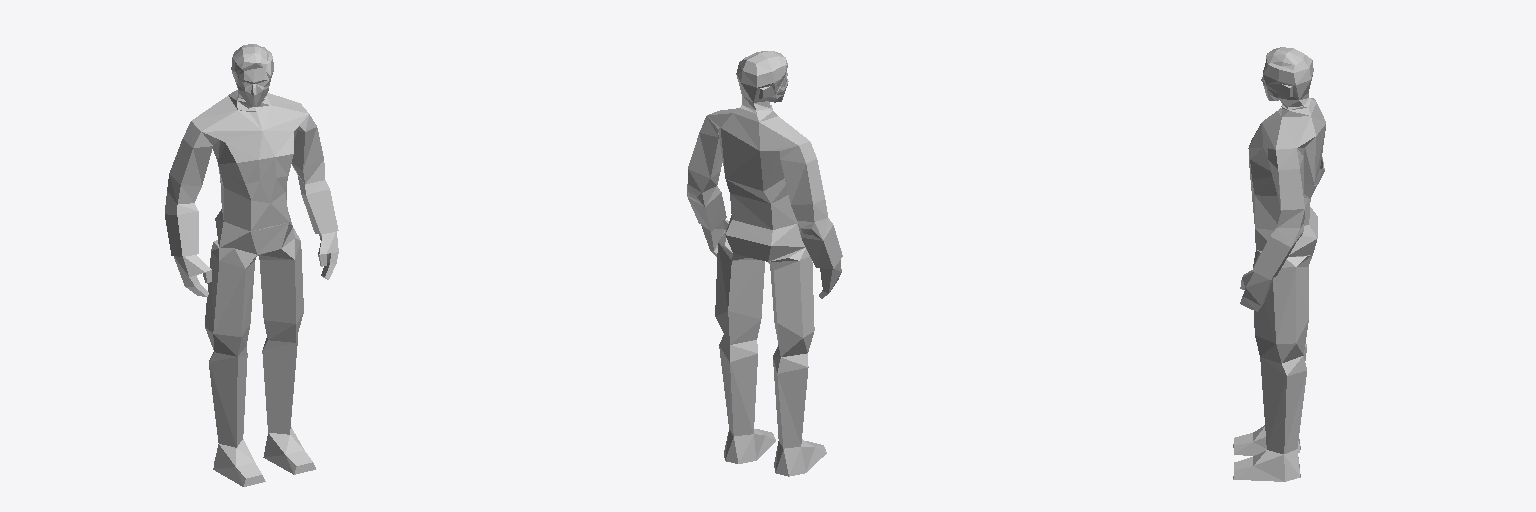
File: Manuel108.obj
3 views of the same model, side by side, from view 1: azimuth 30°, elevation 25°; view 2: azimuth 150°, elevation 25°; view 3: azimuth 270°, elevation 25° (orthographic).
Parts seen in each view (by area): view 1: leon; view 2: leon; view 3: leon.
Boxes of the visible parts, <box> form: leon: <box>165,44,338,486</box>; leon: <box>687,51,842,476</box>; leon: <box>1233,47,1325,481</box>.
Bounding box in the file's own units: 4.66 × 12.19 × 2.5.